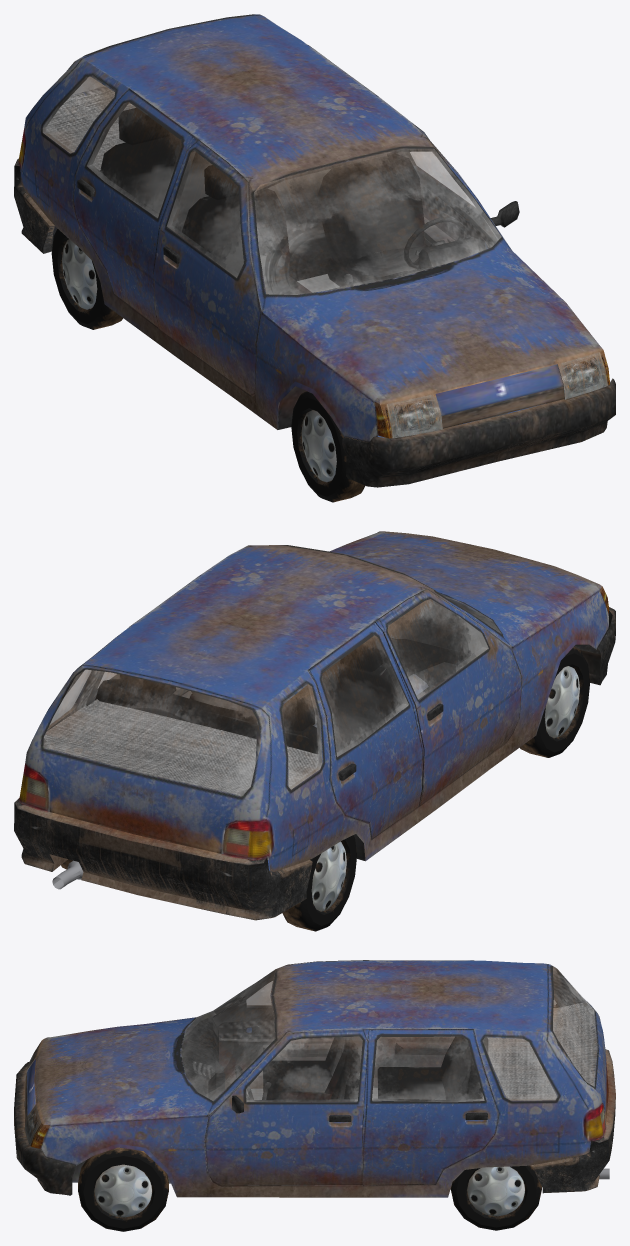
3 views of the same model, one above another, from view 1: azimuth 30°, elevation 25°; view 2: azimuth 150°, elevation 25°; view 3: azimuth 270°, elevation 25° (orthographic). The views are drawn at different scales.
Visible parts, largest first — view 1: Plane, glass.003, glass.004, Cylinder.002, Cube.001, Cylinder.003; view 2: Plane, glass.003, glass.004, Cylinder.002, Cylinder.003; view 3: Plane, Cube.001, Cube.006, Cylinder, glass.003, Cylinder.001, glass.004.
Part boxes in pixels (x1,y1,x2,y2): Plane: (14, 14, 615, 487); glass.003: (154, 137, 261, 396); glass.004: (73, 88, 194, 326); Cylinder.002: (291, 391, 367, 502); Cube.001: (401, 121, 511, 251); Cylinder.003: (51, 229, 122, 329); Plane: (14, 531, 615, 920); glass.003: (374, 589, 522, 806); glass.004: (307, 622, 423, 839); Cylinder.002: (520, 647, 590, 757); Cylinder.003: (282, 835, 356, 931); Plane: (14, 960, 615, 1197); Cube.001: (204, 1029, 368, 1185); Cube.006: (362, 1029, 498, 1185); Cylinder: (78, 1147, 168, 1231); glass.003: (213, 960, 369, 1088); Cylinder.001: (450, 1165, 541, 1230); glass.004: (367, 960, 473, 1087).
Size of the model in its own units: 139 by 114 by 320.
Materials: 6 (6 with a texture image).
